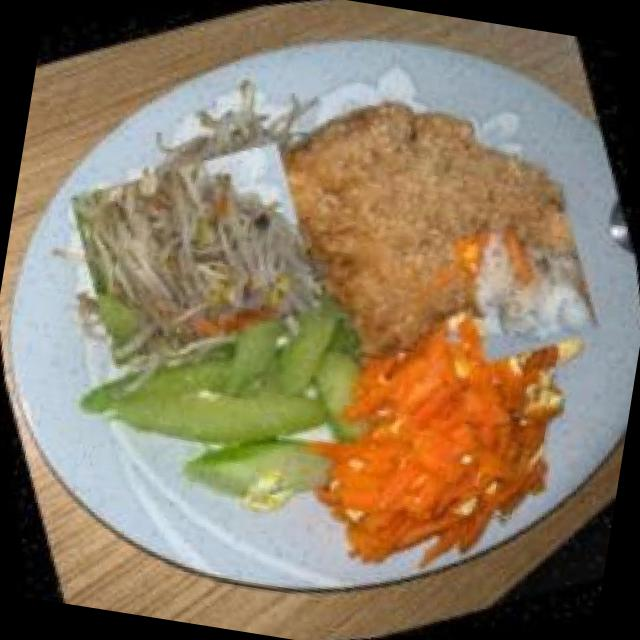carrot_eggs: (246, 250, 634, 615)
fried_chicken: (183, 0, 640, 433)
mung_bean_sprouts: (39, 98, 348, 406)
rice: (428, 189, 622, 384)
